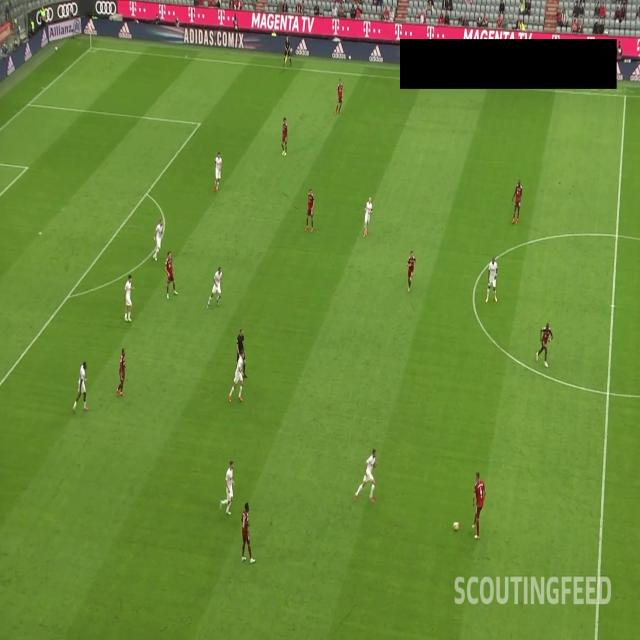ball: (449, 517, 460, 536)
player: (467, 469, 487, 541), (354, 444, 376, 504), (239, 500, 258, 564), (218, 460, 236, 518), (71, 360, 89, 413), (229, 349, 246, 404), (535, 322, 554, 371), (205, 262, 225, 304), (164, 250, 179, 300), (484, 254, 498, 303), (511, 174, 524, 226), (122, 269, 134, 324), (362, 193, 375, 240), (152, 214, 164, 264), (305, 181, 316, 233), (406, 246, 416, 295), (117, 344, 126, 397), (213, 149, 223, 194), (280, 115, 289, 155), (336, 77, 344, 117)
referee: (234, 323, 250, 381), (281, 34, 293, 68)
